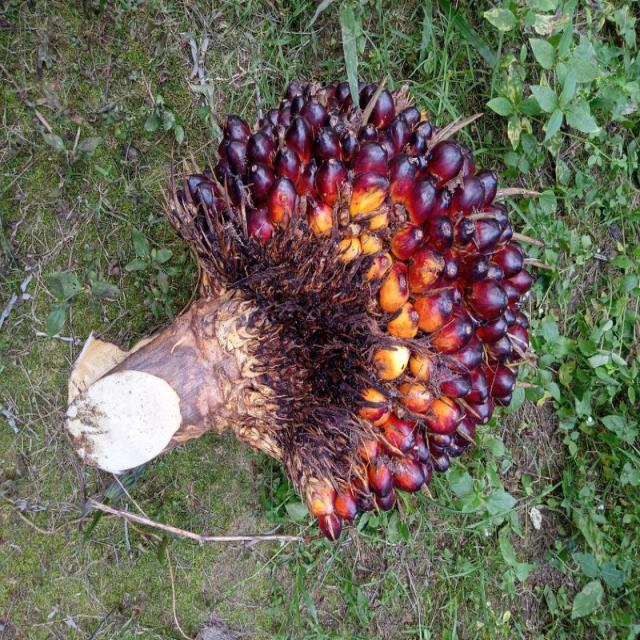fraksi 1: (116, 65, 554, 541)
